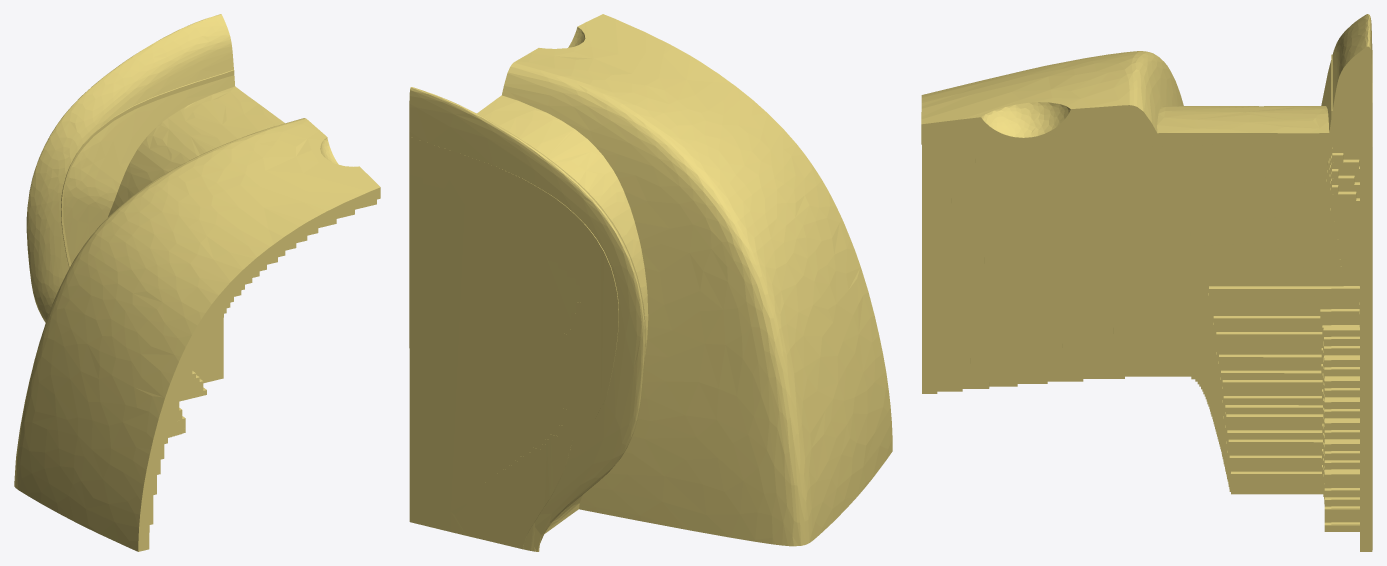
File: kenny.glb
3 views of the same model, side by side, from view 1: azimuth 30°, elevation 25°; view 2: azimuth 150°, elevation 25°; view 3: azimuth 270°, elevation 25° (orthographic). The views are drawn at different scales.
Visible parts, largest first — view 1: Assembly.stl; view 2: Assembly.stl; view 3: Assembly.stl.
Boxes of the visible parts, x1,y1,x2,y2 form: Assembly.stl: [14, 14, 380, 551]; Assembly.stl: [409, 14, 892, 551]; Assembly.stl: [921, 14, 1372, 551].
Size of the model in its own units: 197 by 253 by 205.
